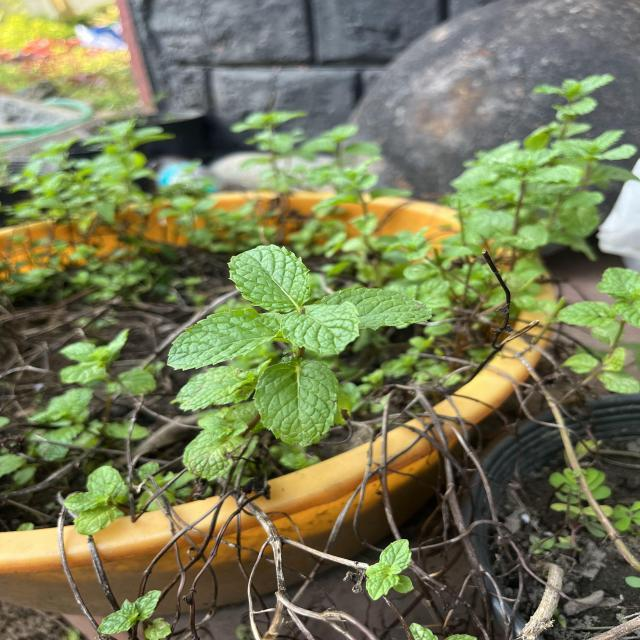Mentha spicata: (252, 360, 342, 448), (166, 308, 283, 372), (226, 243, 312, 313), (314, 286, 434, 332), (278, 300, 362, 356)
